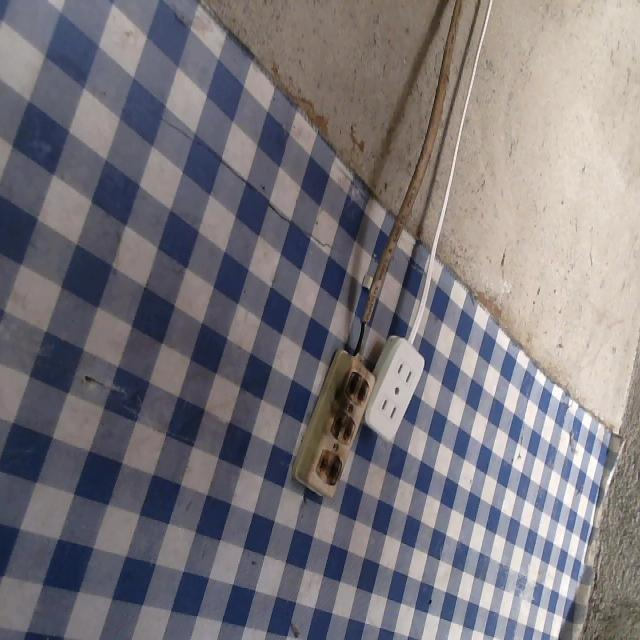-: (327, 408, 356, 445), (314, 445, 342, 483), (343, 366, 369, 406)
